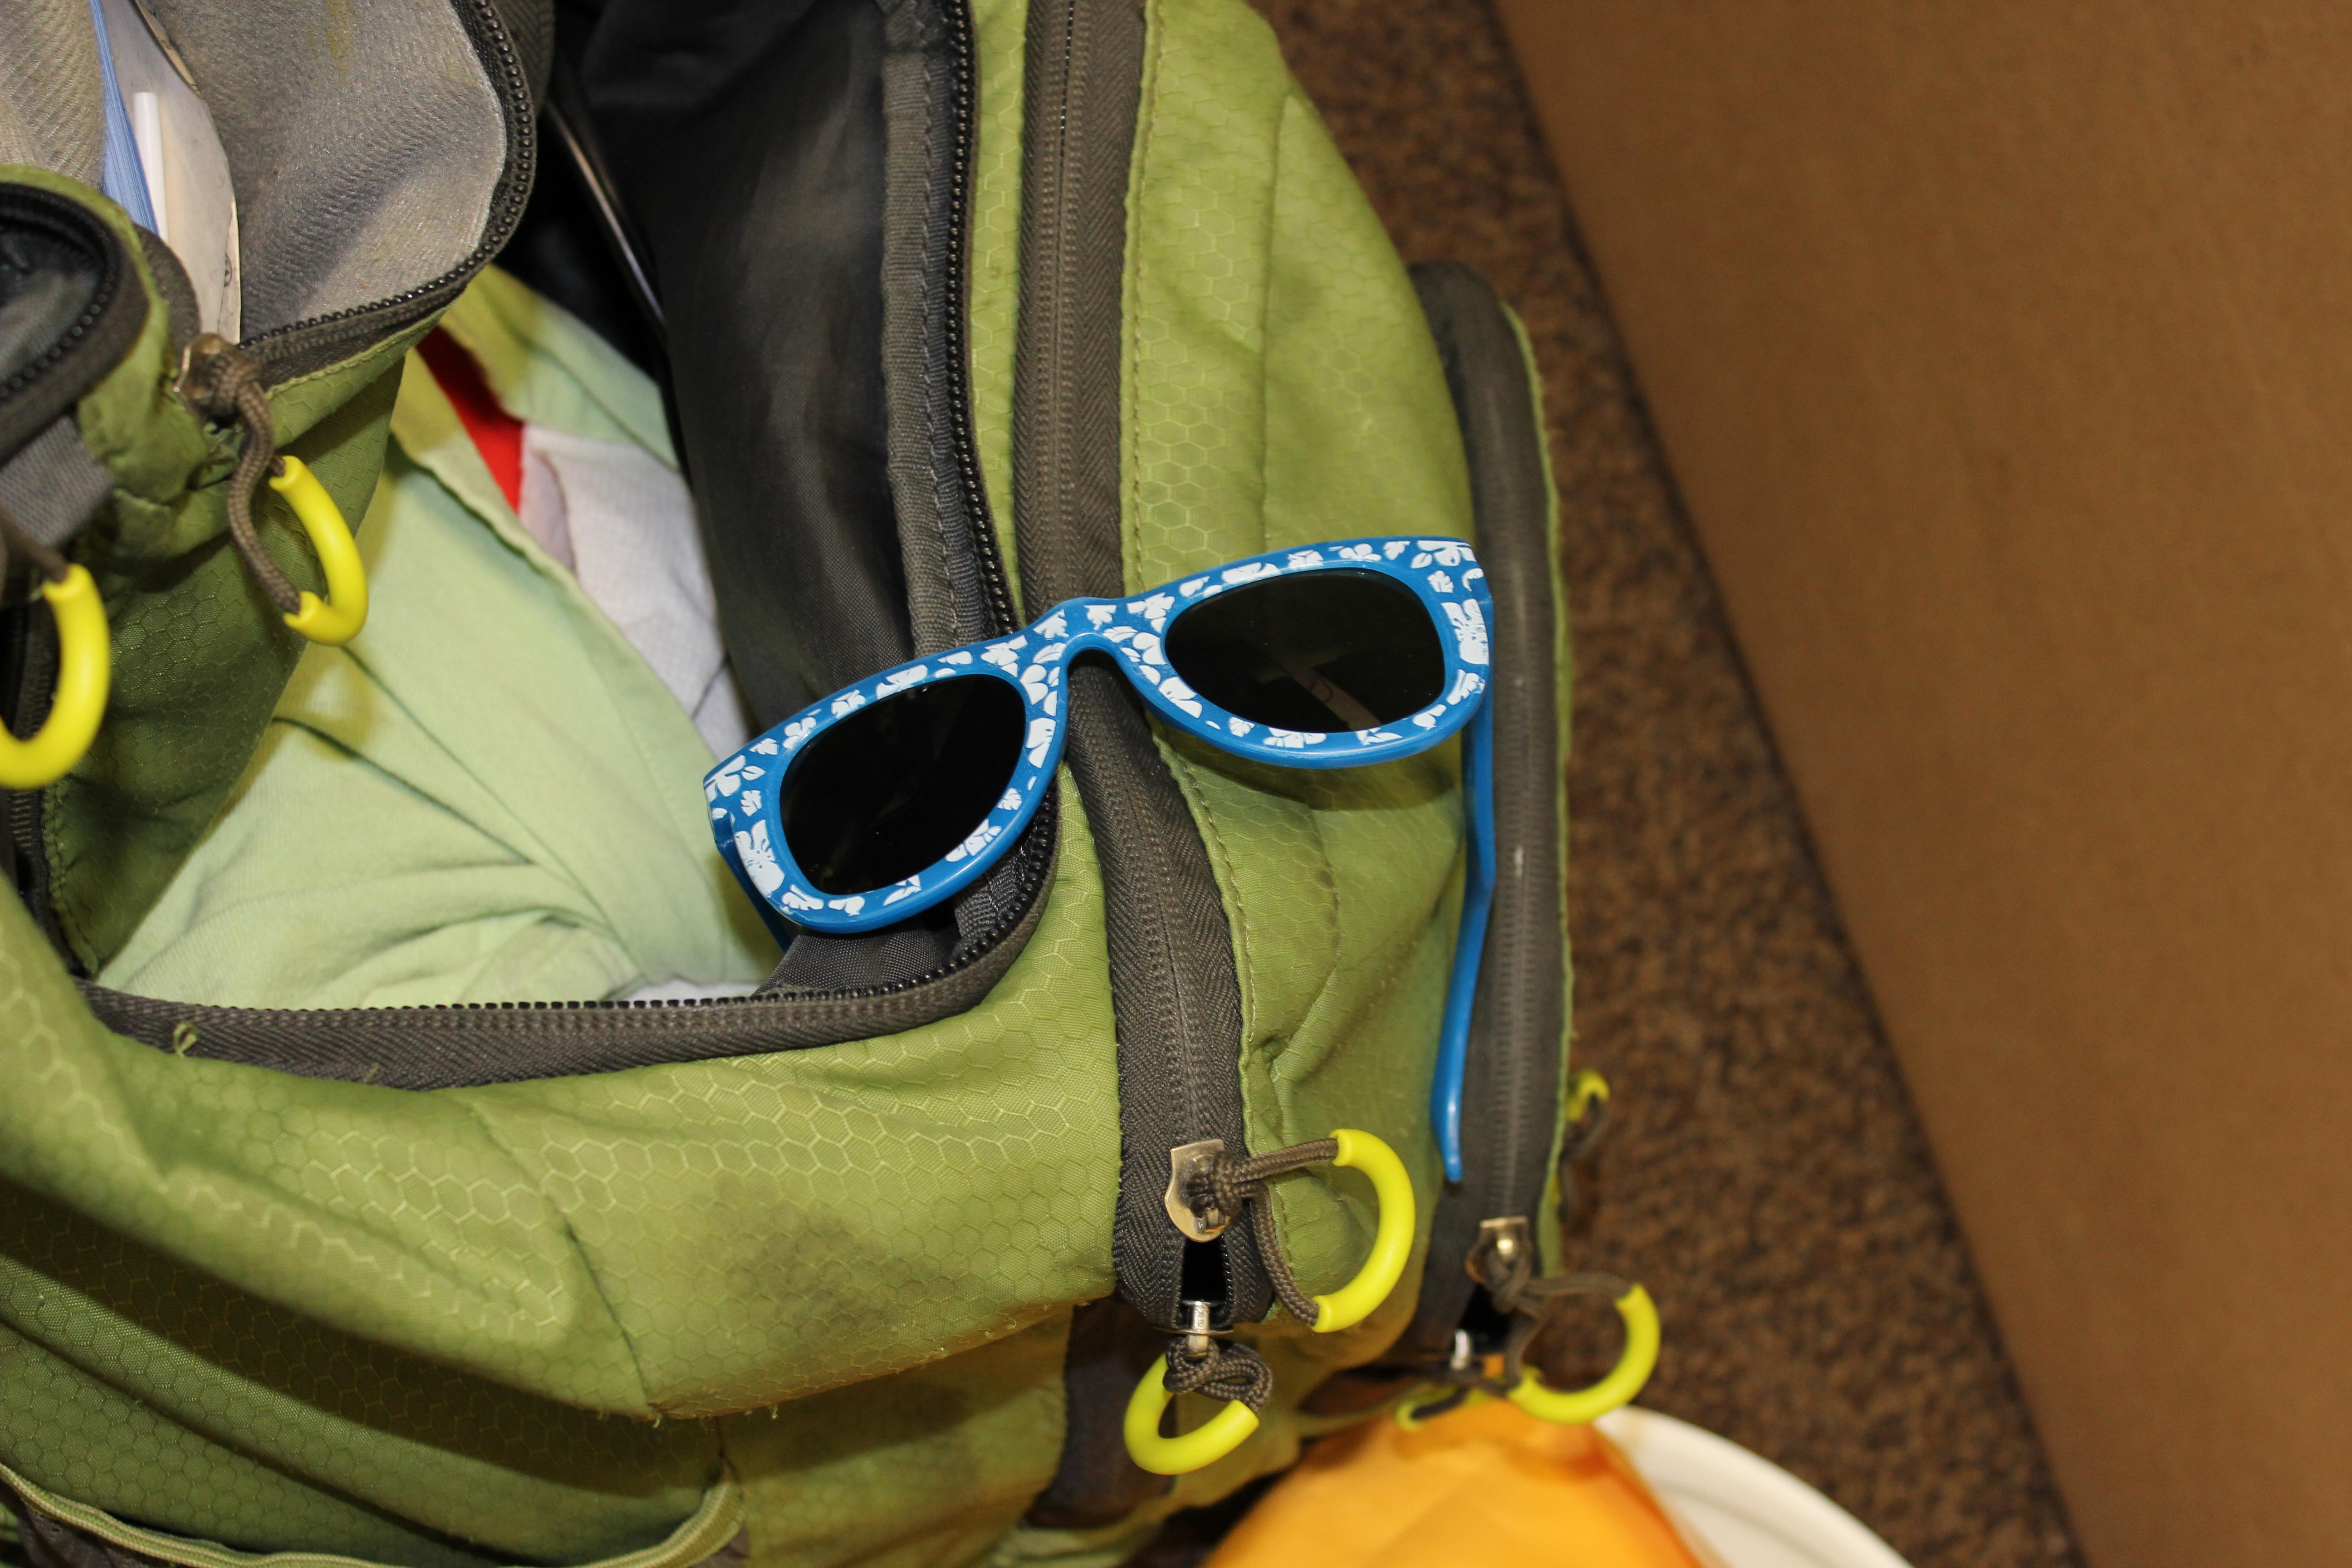blueSunglasses: (677, 520, 1538, 1204)
